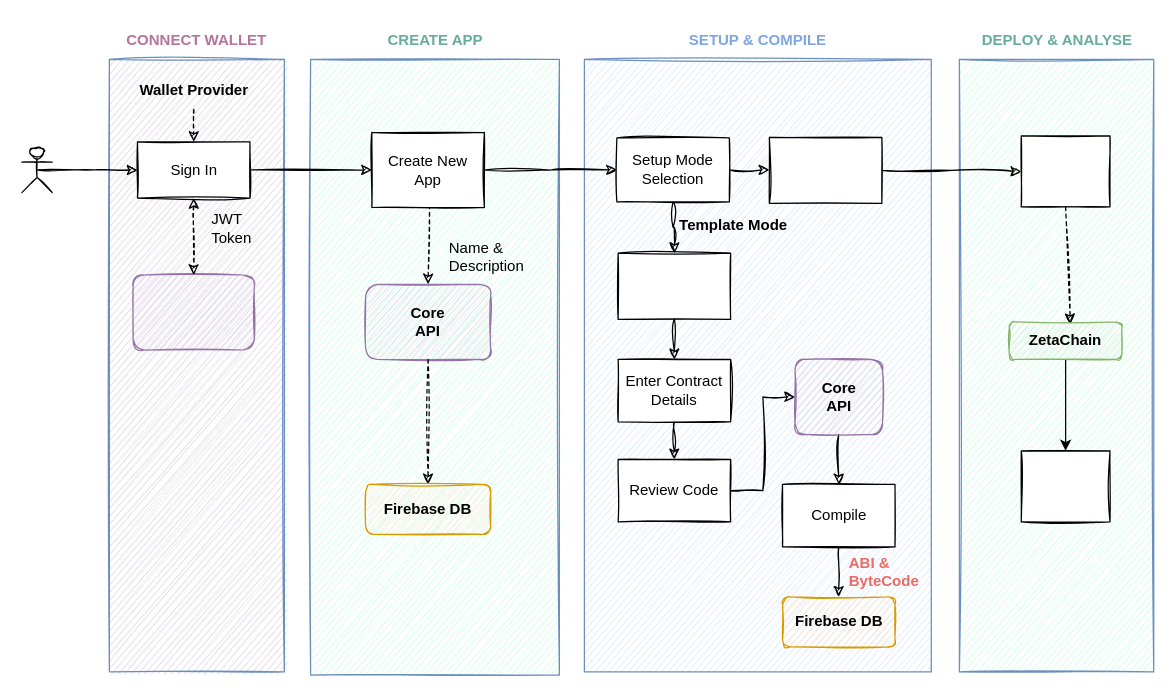
The diagram is 1176 pixels wide and 696 high, and some of its shapes have lost their labels. Here are the shapes that lost their labels. From the top down, the box of each, then its label:
(21, 146, 52, 193): User
(768, 136, 882, 203): Finish Setup
(1020, 135, 1110, 207): Deploy
(617, 252, 731, 319): Select Template
(132, 274, 254, 350): Blocks Authentication API
(1020, 450, 1110, 522): Analytics & Insights
